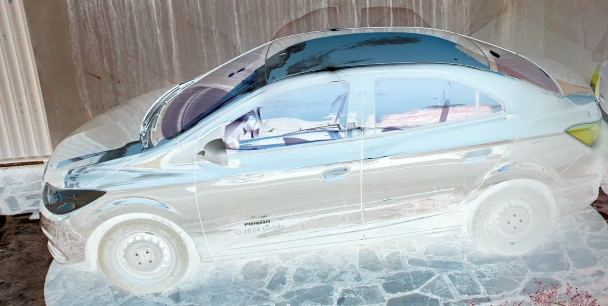car: (41, 26, 600, 298)
